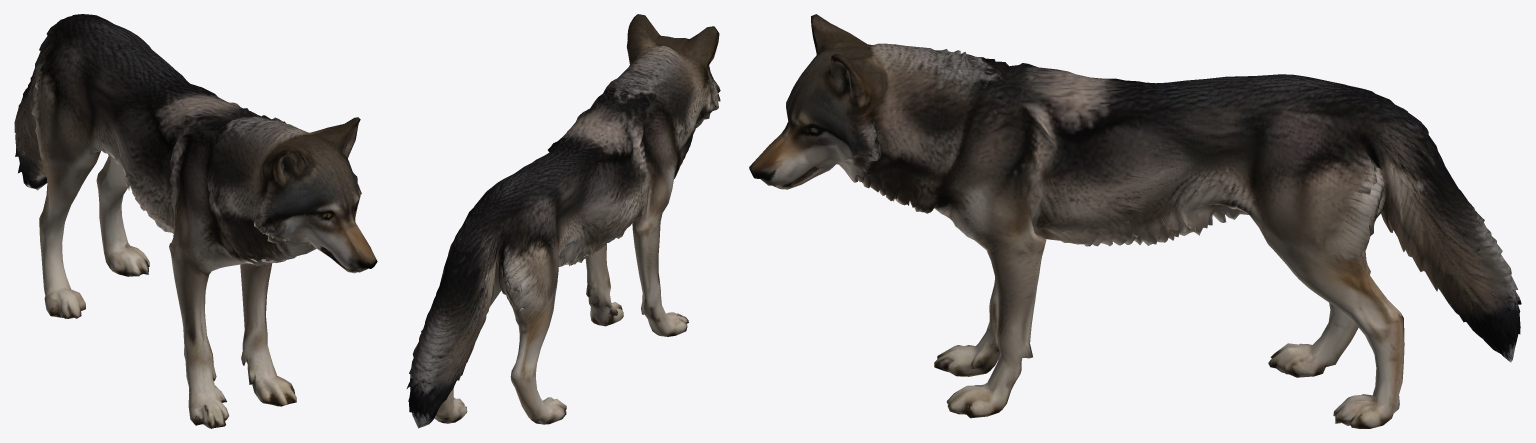
File: wolf.glb
The picture shows the model from 3 angles, left to right: view 1: azimuth 30°, elevation 25°; view 2: azimuth 150°, elevation 25°; view 3: azimuth 270°, elevation 25°; orthographic projection. The views are drawn at different scales.
Parts seen in each view (by area): view 1: tripo_node_1467bc28-36de-4c73-9be7-b5b1d0c98d5b; view 2: tripo_node_1467bc28-36de-4c73-9be7-b5b1d0c98d5b; view 3: tripo_node_1467bc28-36de-4c73-9be7-b5b1d0c98d5b.
Part boxes in pixels (<box>): tripo_node_1467bc28-36de-4c73-9be7-b5b1d0c98d5b: <box>14,14,377,428</box>; tripo_node_1467bc28-36de-4c73-9be7-b5b1d0c98d5b: <box>406,14,720,428</box>; tripo_node_1467bc28-36de-4c73-9be7-b5b1d0c98d5b: <box>749,14,1521,428</box>.
Bounding box in the file's own units: 0.2201 × 0.5247 × 1.
Materials: 1 (1 with a texture image).
